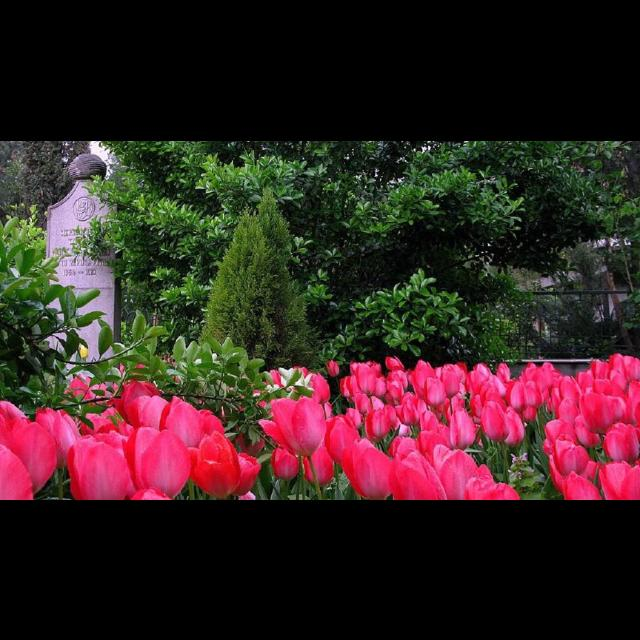Flower: (1, 350, 640, 498), (258, 392, 330, 468)
